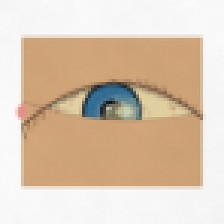corneal_ulcer: (95, 92, 148, 135)
